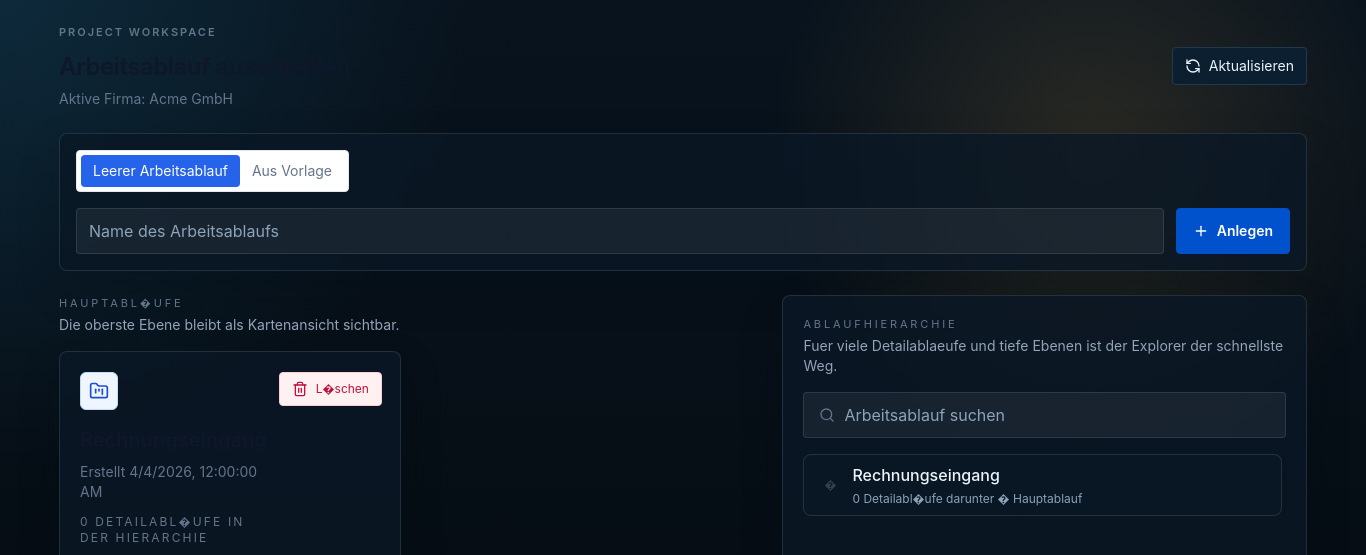
WorkspaceList › filters the template list via the search input
Click the button with test id "workspace-create-mode-template" at (292,170), box left=240, top=154, right=344, bottom=186
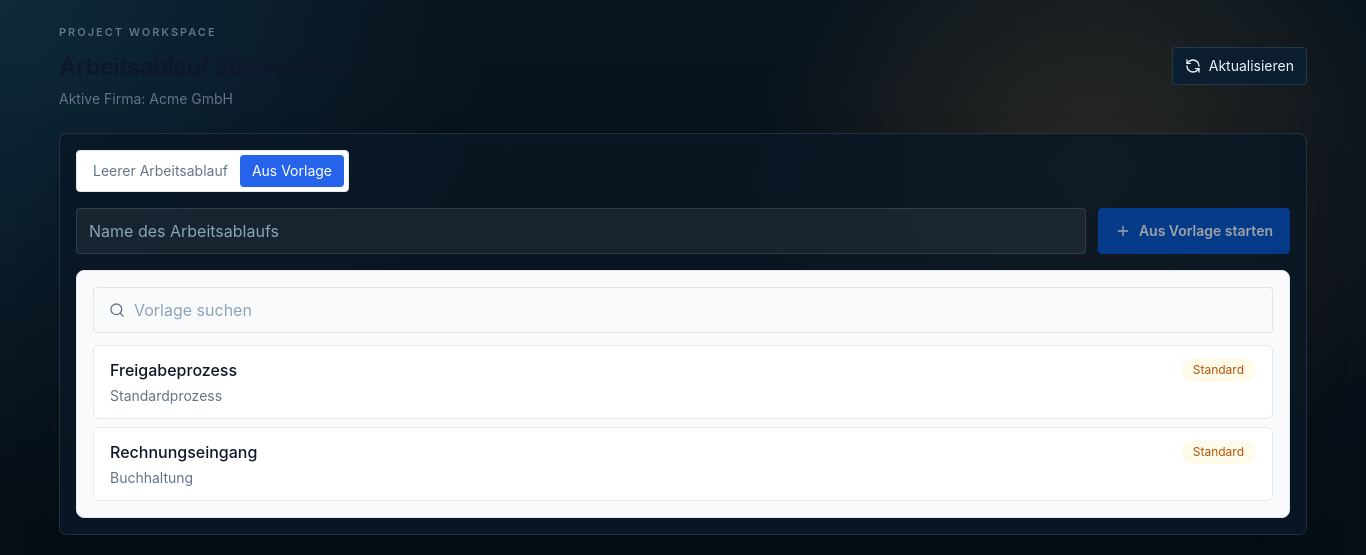
Type "Rechnung" into the field with test id "workspace-template-search" at (683,310), box left=93, top=286, right=1273, bottom=332
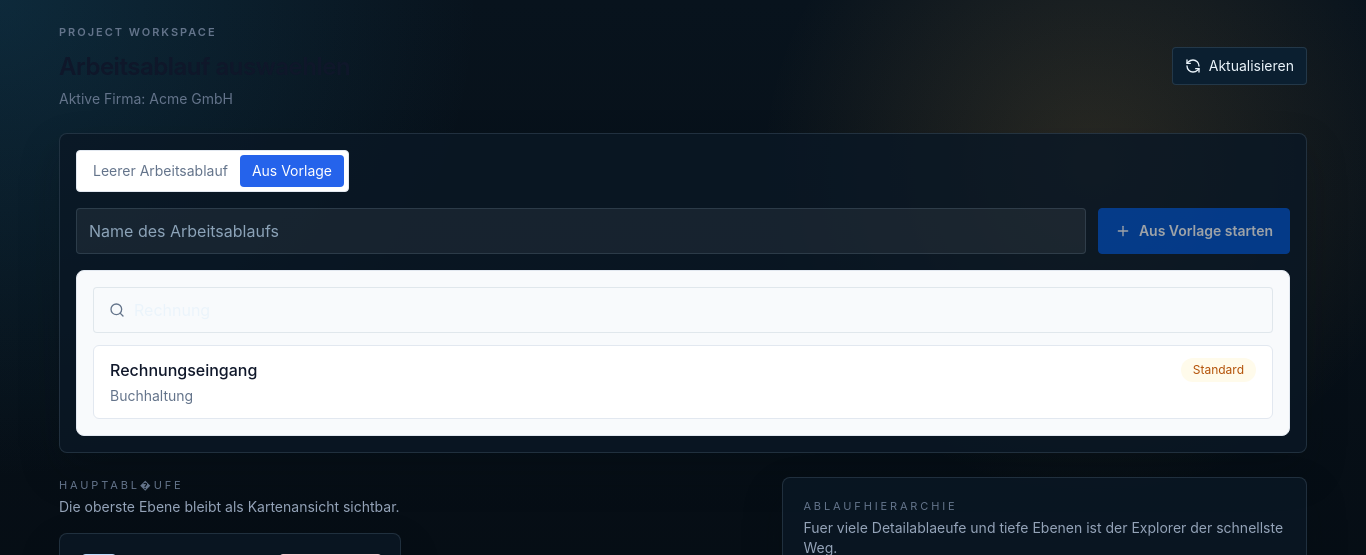
expect the button with test id "workspace-template-option-template-2" is shown: met, box left=110, top=358, right=1169, bottom=406
expect the button with test id "workspace-template-option-template-1" is gone: met
